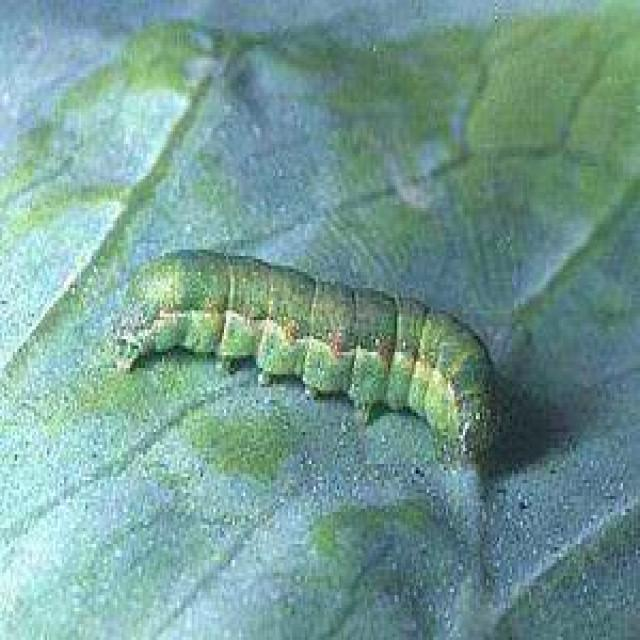BeetArmyWorm-Larva-: (108, 241, 507, 472)
